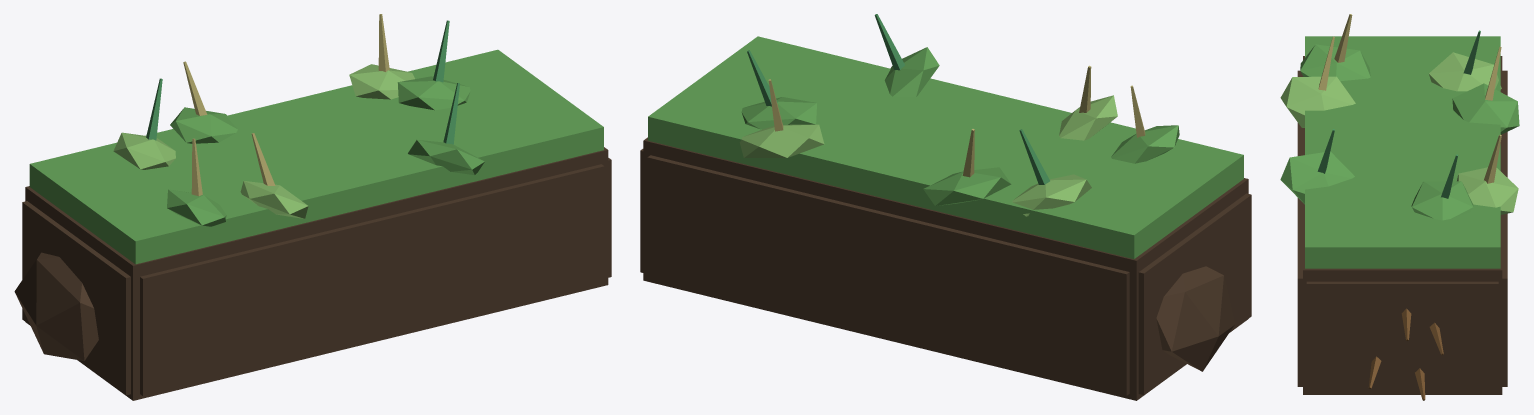
The model's file is pickup_peat.glb.
3 views of the same model, side by side, from view 1: azimuth 30°, elevation 25°; view 2: azimuth 150°, elevation 25°; view 3: azimuth 270°, elevation 25° (orthographic). The views are drawn at different scales.
Visible parts, largest first — view 1: Peat_Cut_4, Peat_Turf, Peat_Body, Peat_Cut_2, Peat_Break, Peat_Moss_1, Peat_Moss_3, Peat_Moss_4, Peat_Moss_7, Peat_Moss_2, Peat_Moss_6, Peat_Moss_5; view 2: Peat_Cut_3, Peat_Turf, Peat_Body, Peat_Cut_2, Peat_Break, Peat_Moss_2, Peat_Moss_3, Peat_Moss_4, Peat_Moss_7, Peat_Moss_5, Peat_Moss_1, Peat_Moss_6; view 3: Peat_Turf, Peat_Cut_1, Peat_Body, Peat_Moss_6, Peat_Moss_3, Peat_Moss_7, Peat_Moss_1, Peat_Moss_2, Peat_Moss_4, Peat_Moss_5, Peat_Cut_3, Peat_Cut_4 (+7 smaller).
Boxes of the visible parts, left/top/right/bottom form: Peat_Cut_4: left=140, top=164, right=604, bottom=395; Peat_Turf: left=29, top=49, right=603, bottom=264; Peat_Body: left=25, top=147, right=608, bottom=400; Peat_Cut_2: left=22, top=201, right=130, bottom=395; Peat_Break: left=14, top=252, right=98, bottom=360; Peat_Moss_1: left=397, top=76, right=470, bottom=110; Peat_Moss_3: left=170, top=107, right=237, bottom=143; Peat_Moss_4: left=113, top=132, right=175, bottom=169; Peat_Moss_7: left=408, top=140, right=484, bottom=175; Peat_Moss_2: left=349, top=64, right=414, bottom=99; Peat_Moss_6: left=240, top=181, right=308, bottom=218; Peat_Moss_5: left=167, top=189, right=226, bottom=226; Peat_Cut_3: left=647, top=155, right=1129, bottom=395; Peat_Turf: left=648, top=36, right=1243, bottom=258; Peat_Body: left=643, top=137, right=1248, bottom=400; Peat_Cut_2: left=1138, top=193, right=1251, bottom=394; Peat_Break: left=1156, top=266, right=1234, bottom=371; Peat_Moss_2: left=739, top=124, right=824, bottom=157; Peat_Moss_3: left=923, top=167, right=1011, bottom=205; Peat_Moss_4: left=1012, top=174, right=1091, bottom=216; Peat_Moss_7: left=884, top=47, right=939, bottom=96; Peat_Moss_5: left=1111, top=125, right=1179, bottom=163; Peat_Moss_1: left=741, top=97, right=816, bottom=129; Peat_Moss_6: left=1059, top=95, right=1117, bottom=140; Peat_Turf: left=1305, top=36, right=1500, bottom=268; Peat_Cut_1: left=1306, top=281, right=1498, bottom=392; Peat_Body: left=1303, top=56, right=1502, bottom=394; Peat_Moss_6: left=1280, top=76, right=1355, bottom=127; Peat_Moss_3: left=1452, top=83, right=1519, bottom=134; Peat_Moss_7: left=1280, top=151, right=1354, bottom=204; Peat_Moss_1: left=1411, top=181, right=1473, bottom=220; Peat_Moss_2: left=1457, top=167, right=1518, bottom=214; Peat_Moss_4: left=1429, top=52, right=1501, bottom=91; Peat_Moss_5: left=1300, top=44, right=1370, bottom=81; Peat_Cut_3: left=1502, top=70, right=1507, bottom=386; Peat_Cut_4: left=1297, top=70, right=1302, bottom=386.
Size of the model in its own units: 0.3 by 0.1173 by 0.1237.
